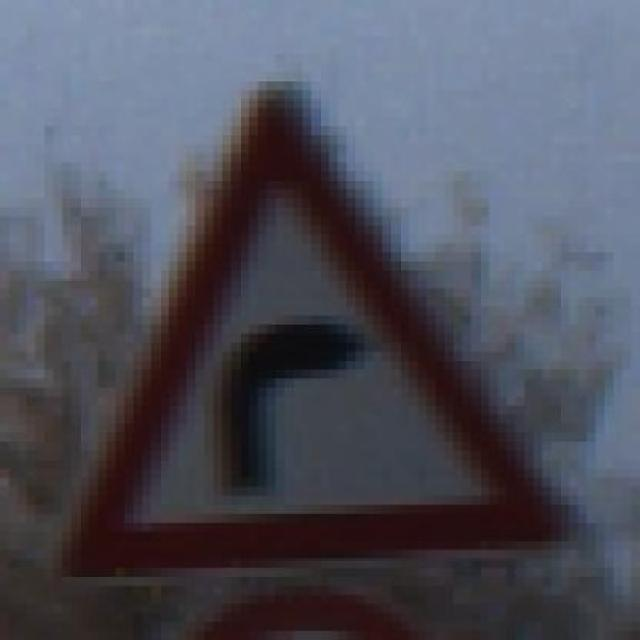Dangerous Rright Curve Ahead: (62, 72, 578, 577)
